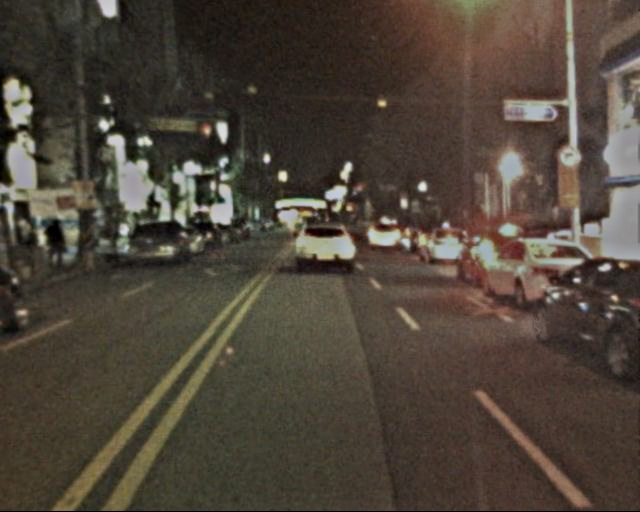person: (46, 214, 73, 267)
